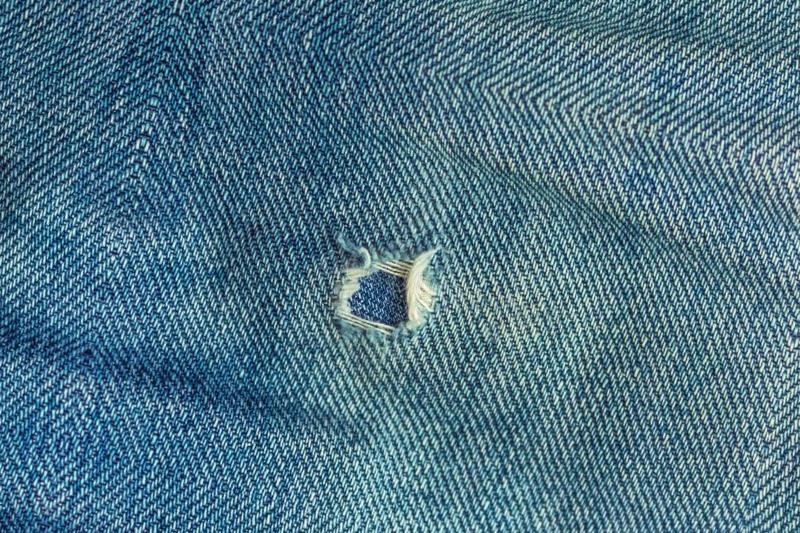hole: (324, 248, 444, 348)
